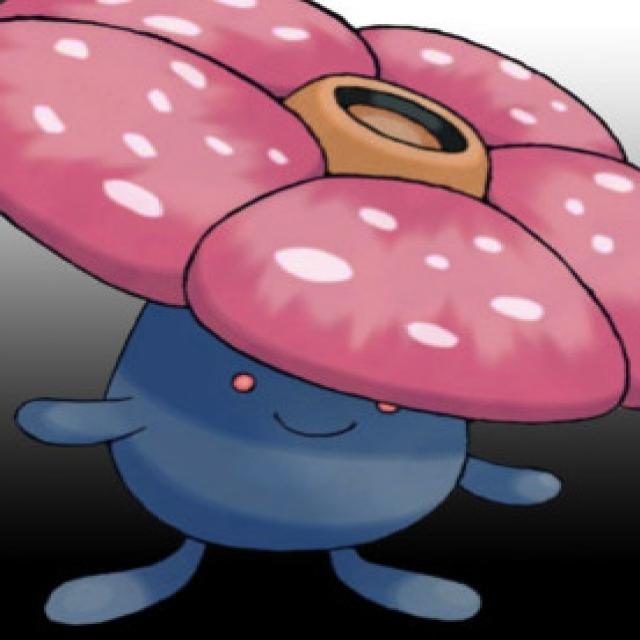Vileplume: (67, 23, 563, 618)
